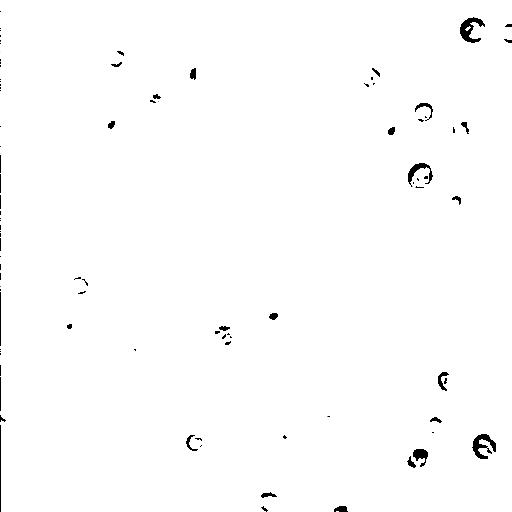micro-algae: (188, 274, 267, 350), (342, 46, 414, 117), (476, 424, 511, 501), (370, 10, 413, 57), (342, 117, 387, 161), (413, 457, 455, 496), (10, 261, 47, 298), (449, 109, 482, 146), (90, 108, 125, 138), (405, 160, 436, 191), (273, 418, 304, 447), (209, 327, 241, 355), (458, 16, 488, 43), (470, 432, 497, 461), (119, 340, 149, 366), (259, 302, 286, 326), (256, 489, 282, 512), (381, 119, 403, 145), (188, 59, 207, 87), (408, 447, 431, 469), (1, 401, 18, 429), (361, 65, 381, 87), (68, 277, 91, 296), (105, 49, 126, 69), (414, 101, 433, 122), (426, 415, 446, 434), (437, 371, 456, 391), (185, 433, 204, 452), (61, 317, 77, 336), (499, 20, 511, 44), (448, 193, 464, 209), (341, 0, 365, 9), (331, 503, 351, 512)
